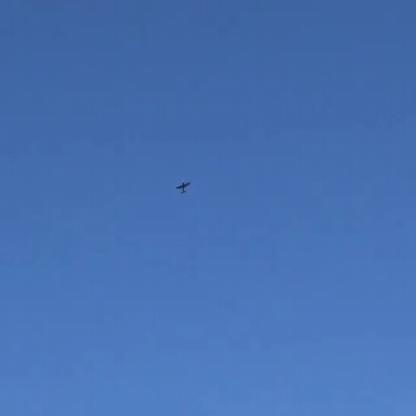CIV_Plane: (176, 181, 192, 194)
